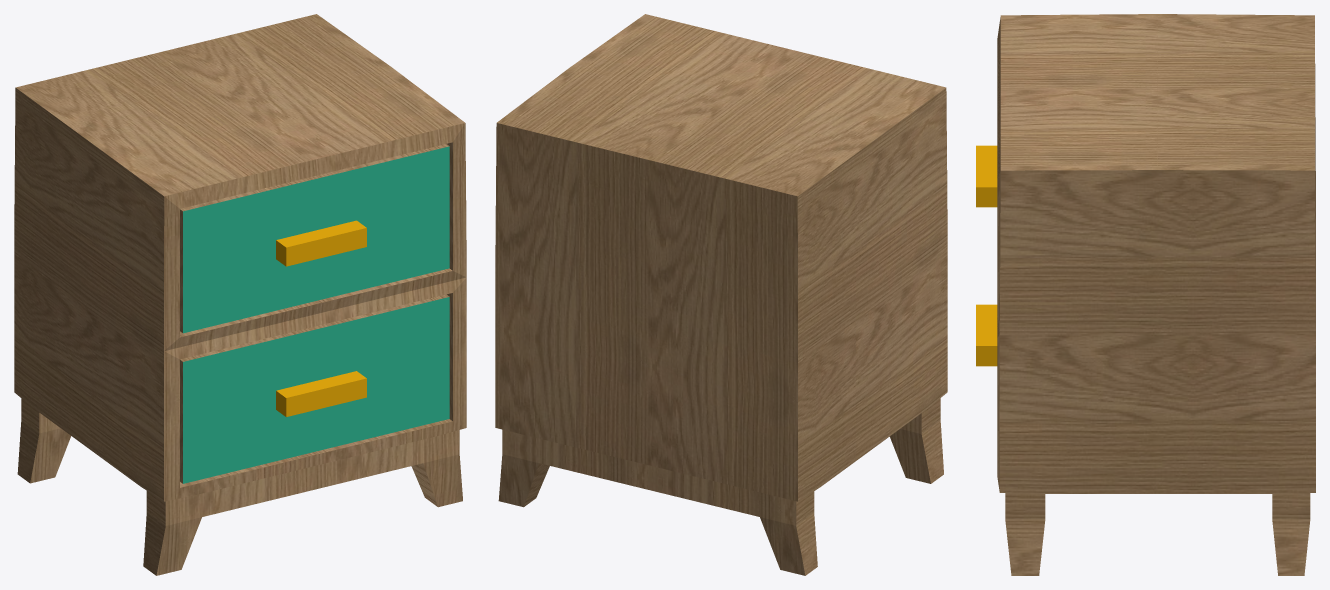
The model's file is chest.FBX.
3 renders of one model, left to right at view 1: azimuth 30°, elevation 25°; view 2: azimuth 150°, elevation 25°; view 3: azimuth 270°, elevation 25°, orthographic. The views are drawn at different scales.
Visible parts, largest first — view 1: Box001; view 2: Box001; view 3: Box001.
Boxes of the visible parts, box(x1,y1,x2,y2) form: Box001: box(14, 14, 466, 575); Box001: box(495, 14, 947, 575); Box001: box(976, 14, 1315, 575).
Size of the model in its own units: 19.92 by 23.79 by 18.09.
3 materials, 1 textured.
